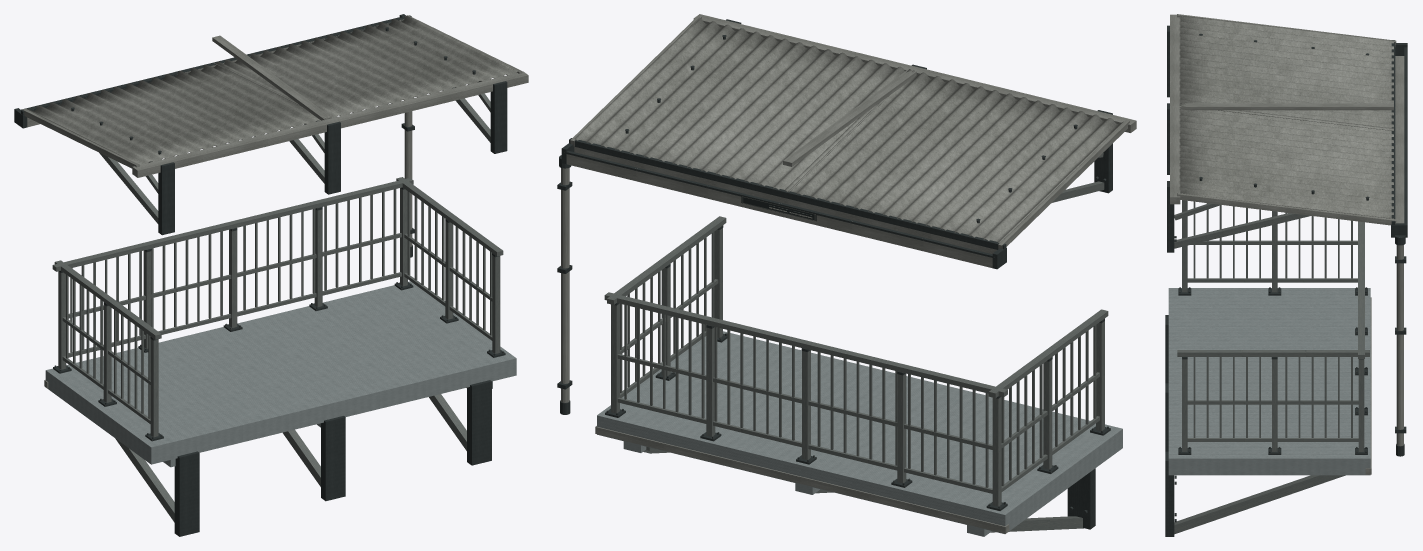
File: ProjectZ_Balcony_Awning_Kit.glb
The picture shows the model from 3 angles, left to right: view 1: azimuth 30°, elevation 25°; view 2: azimuth 150°, elevation 25°; view 3: azimuth 270°, elevation 25°; orthographic projection. The views are drawn at different scales.
Visible parts, largest first — view 1: Balcony_Slab_4x2m_PivotRearCenter_SurfaceZ0, RainAwning_CorrugatedGalvanized_Sheet_Left, RainAwning_CorrugatedGalvanized_Sheet_Right, Guardrail_Front_29Pickets_InfillSection_4m, RainAwning_4m_RearWall_FlashingChannel, Guardrail_Right_13Pickets_InfillSection_2m, Guardrail_Left_13Pickets_InfillSection_2m, Concrete_Balcony_Cantilever_Bracket_L, Guardrail_Front_TopRail_4m, Concrete_Balcony_Cantilever_Bracket_C, Concrete_Balcony_Cantilever_Bracket_R, RainAwning_Reusable_TriangularBracket_Left (+18 smaller); view 2: Balcony_Slab_4x2m_PivotRearCenter_SurfaceZ0, RainAwning_CorrugatedGalvanized_Sheet_Left, RainAwning_CorrugatedGalvanized_Sheet_Right, Guardrail_Front_29Pickets_InfillSection_4m, RainAwning_OpenU_ProfileGutter_4m, Guardrail_Left_13Pickets_InfillSection_2m, Guardrail_Front_TopRail_4m, Guardrail_Right_13Pickets_InfillSection_2m, RainAwning_FrontCrossMember_4m, Balcony_OuterDripEdge_Flashing_4m, RainAwning_4m_RearWall_FlashingChannel, RainAwning_Optional_Removable_Downspout (+15 smaller); view 3: Balcony_Slab_4x2m_PivotRearCenter_SurfaceZ0, RainAwning_CorrugatedGalvanized_Sheet_Right, RainAwning_CorrugatedGalvanized_Sheet_Left, Guardrail_Right_13Pickets_InfillSection_2m, Guardrail_Left_13Pickets_InfillSection_2m, Concrete_Balcony_Cantilever_Bracket_R, RainAwning_OpenU_ProfileGutter_4m, RainAwning_4m_RearWall_FlashingChannel, RainAwning_Reusable_TriangularBracket_Right, RainAwning_Optional_Removable_Downspout, RainAwning_RaisedCenterOverlapSeam, RainAwning_Right_SlopeEdgeFascia (+10 smaller).
Boxes of the visible parts, <box> form: Balcony_Slab_4x2m_PivotRearCenter_SurfaceZ0: <box>45,281,516,464</box>; RainAwning_CorrugatedGalvanized_Sheet_Left: <box>26,61,330,164</box>; RainAwning_CorrugatedGalvanized_Sheet_Right: <box>214,15,517,118</box>; Guardrail_Front_29Pickets_InfillSection_4m: <box>68,189,401,357</box>; RainAwning_4m_RearWall_FlashingChannel: <box>132,71,528,177</box>; Guardrail_Right_13Pickets_InfillSection_2m: <box>404,191,492,340</box>; Guardrail_Left_13Pickets_InfillSection_2m: <box>62,274,150,423</box>; Concrete_Balcony_Cantilever_Bracket_L: <box>115,438,199,536</box>; Guardrail_Front_TopRail_4m: <box>52,178,413,271</box>; Concrete_Balcony_Cantilever_Bracket_C: <box>283,416,345,501</box>; Concrete_Balcony_Cantilever_Bracket_R: <box>429,380,491,465</box>; RainAwning_Reusable_TriangularBracket_Left: <box>99,152,174,235</box>; Balcony_Slab_4x2m_PivotRearCenter_SurfaceZ0: <box>597,331,1122,533</box>; RainAwning_CorrugatedGalvanized_Sheet_Left: <box>785,69,1124,243</box>; RainAwning_CorrugatedGalvanized_Sheet_Right: <box>574,17,914,191</box>; Guardrail_Front_29Pickets_InfillSection_4m: <box>617,305,992,493</box>; RainAwning_OpenU_ProfileGutter_4m: <box>564,147,996,268</box>; Guardrail_Left_13Pickets_InfillSection_2m: <box>1001,325,1099,491</box>; Guardrail_Front_TopRail_4m: <box>604,292,1007,397</box>; Guardrail_Right_13Pickets_InfillSection_2m: <box>620,232,718,397</box>; RainAwning_FrontCrossMember_4m: <box>569,138,1006,249</box>; Balcony_OuterDripEdge_Flashing_4m: <box>595,426,1009,533</box>; RainAwning_4m_RearWall_FlashingChannel: <box>693,14,1136,132</box>; RainAwning_Optional_Removable_Downspout: <box>559,155,571,414</box>; Balcony_Slab_4x2m_PivotRearCenter_SurfaceZ0: <box>1168,288,1370,475</box>; RainAwning_CorrugatedGalvanized_Sheet_Right: <box>1179,103,1393,218</box>; RainAwning_CorrugatedGalvanized_Sheet_Left: <box>1179,15,1393,131</box>; Guardrail_Right_13Pickets_InfillSection_2m: <box>1187,357,1358,441</box>; Guardrail_Left_13Pickets_InfillSection_2m: <box>1187,201,1357,282</box>; Concrete_Balcony_Cantilever_Bracket_R: <box>1165,451,1345,536</box>; RainAwning_OpenU_ProfileGutter_4m: <box>1395,47,1407,223</box>; RainAwning_4m_RearWall_FlashingChannel: <box>1170,14,1180,204</box>; RainAwning_Reusable_TriangularBracket_Right: <box>1167,181,1310,252</box>; RainAwning_Optional_Removable_Downspout: <box>1395,235,1405,456</box>; RainAwning_RaisedCenterOverlapSeam: <box>1179,103,1393,110</box>; RainAwning_Right_SlopeEdgeFascia: <box>1177,193,1396,225</box>.
Size of the model in its own units: 4.33 by 3.95 by 2.41.
Materials: 2 (2 with a texture image).
